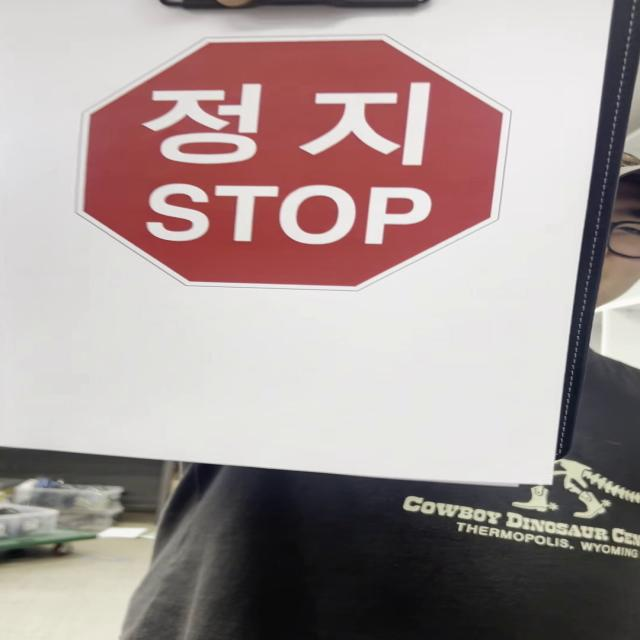stop: (84, 36, 511, 294)
